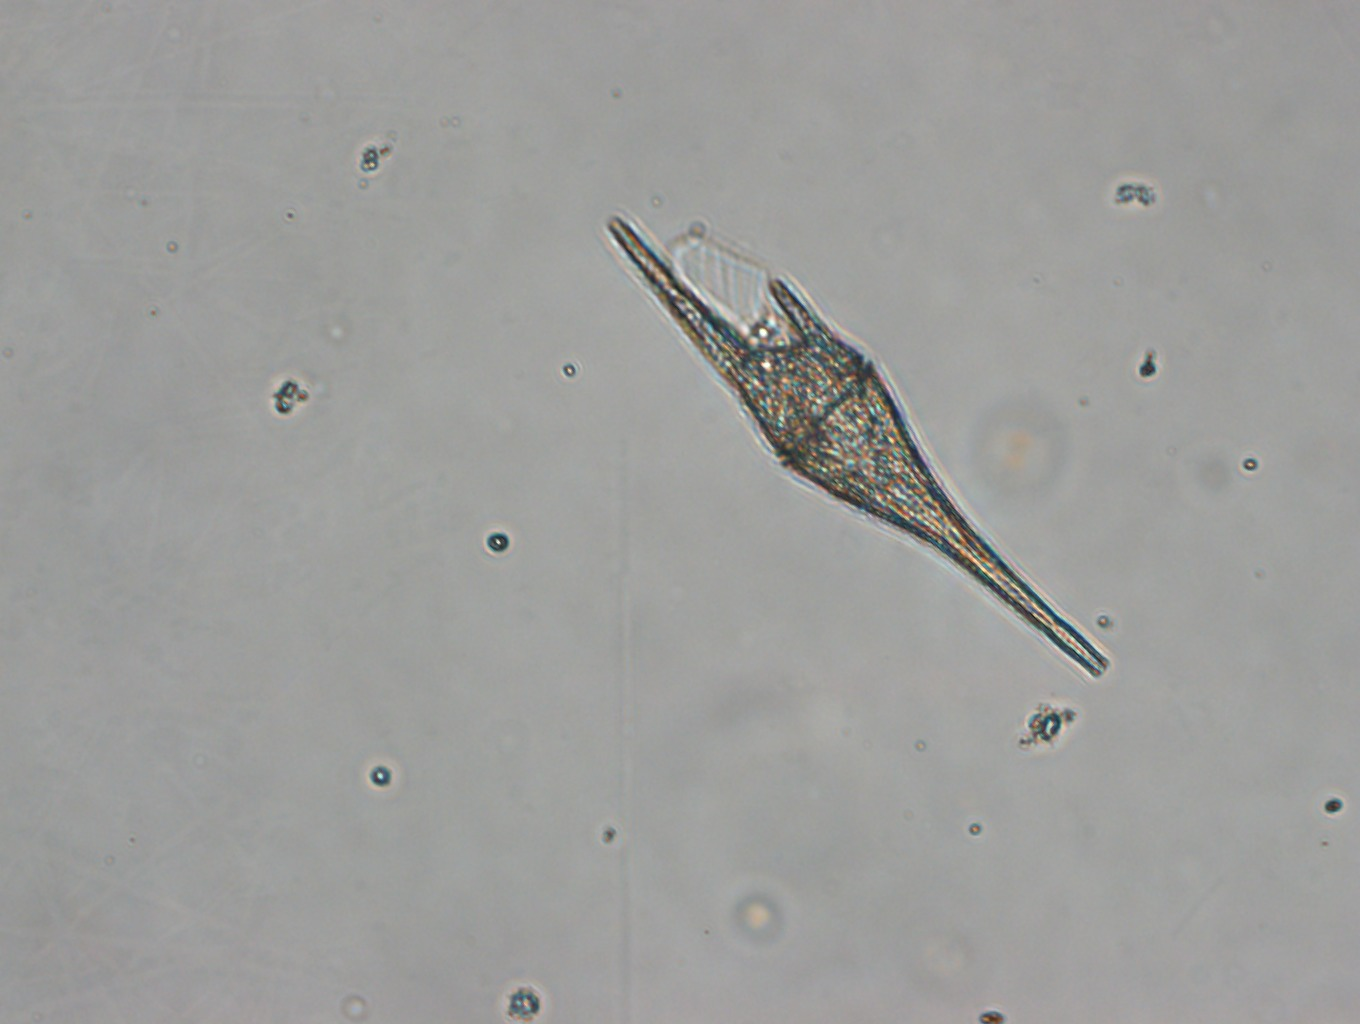ceratium furca: (600, 209, 1110, 675)
